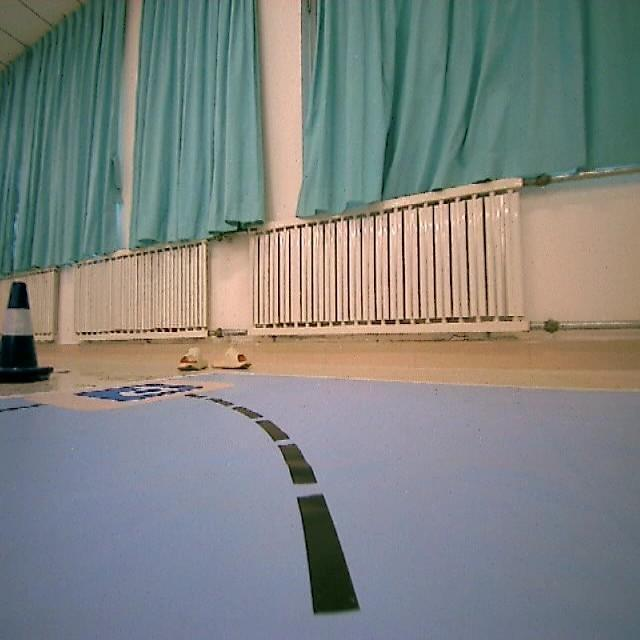obstacle: (0, 278, 53, 404)
